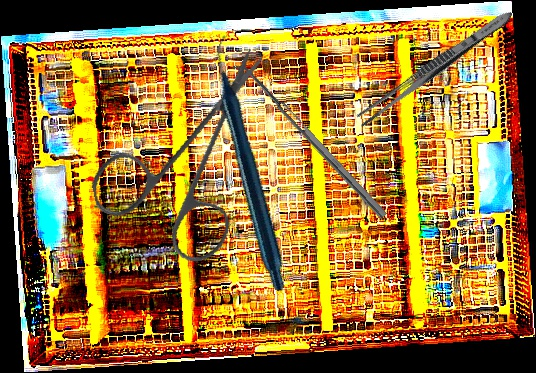Dressing Forceps: (353, 5, 517, 131)
Handpiece: (141, 34, 364, 293)
Iris Scissors: (70, 47, 303, 281)
Spatula Surgical: (229, 57, 388, 226)
